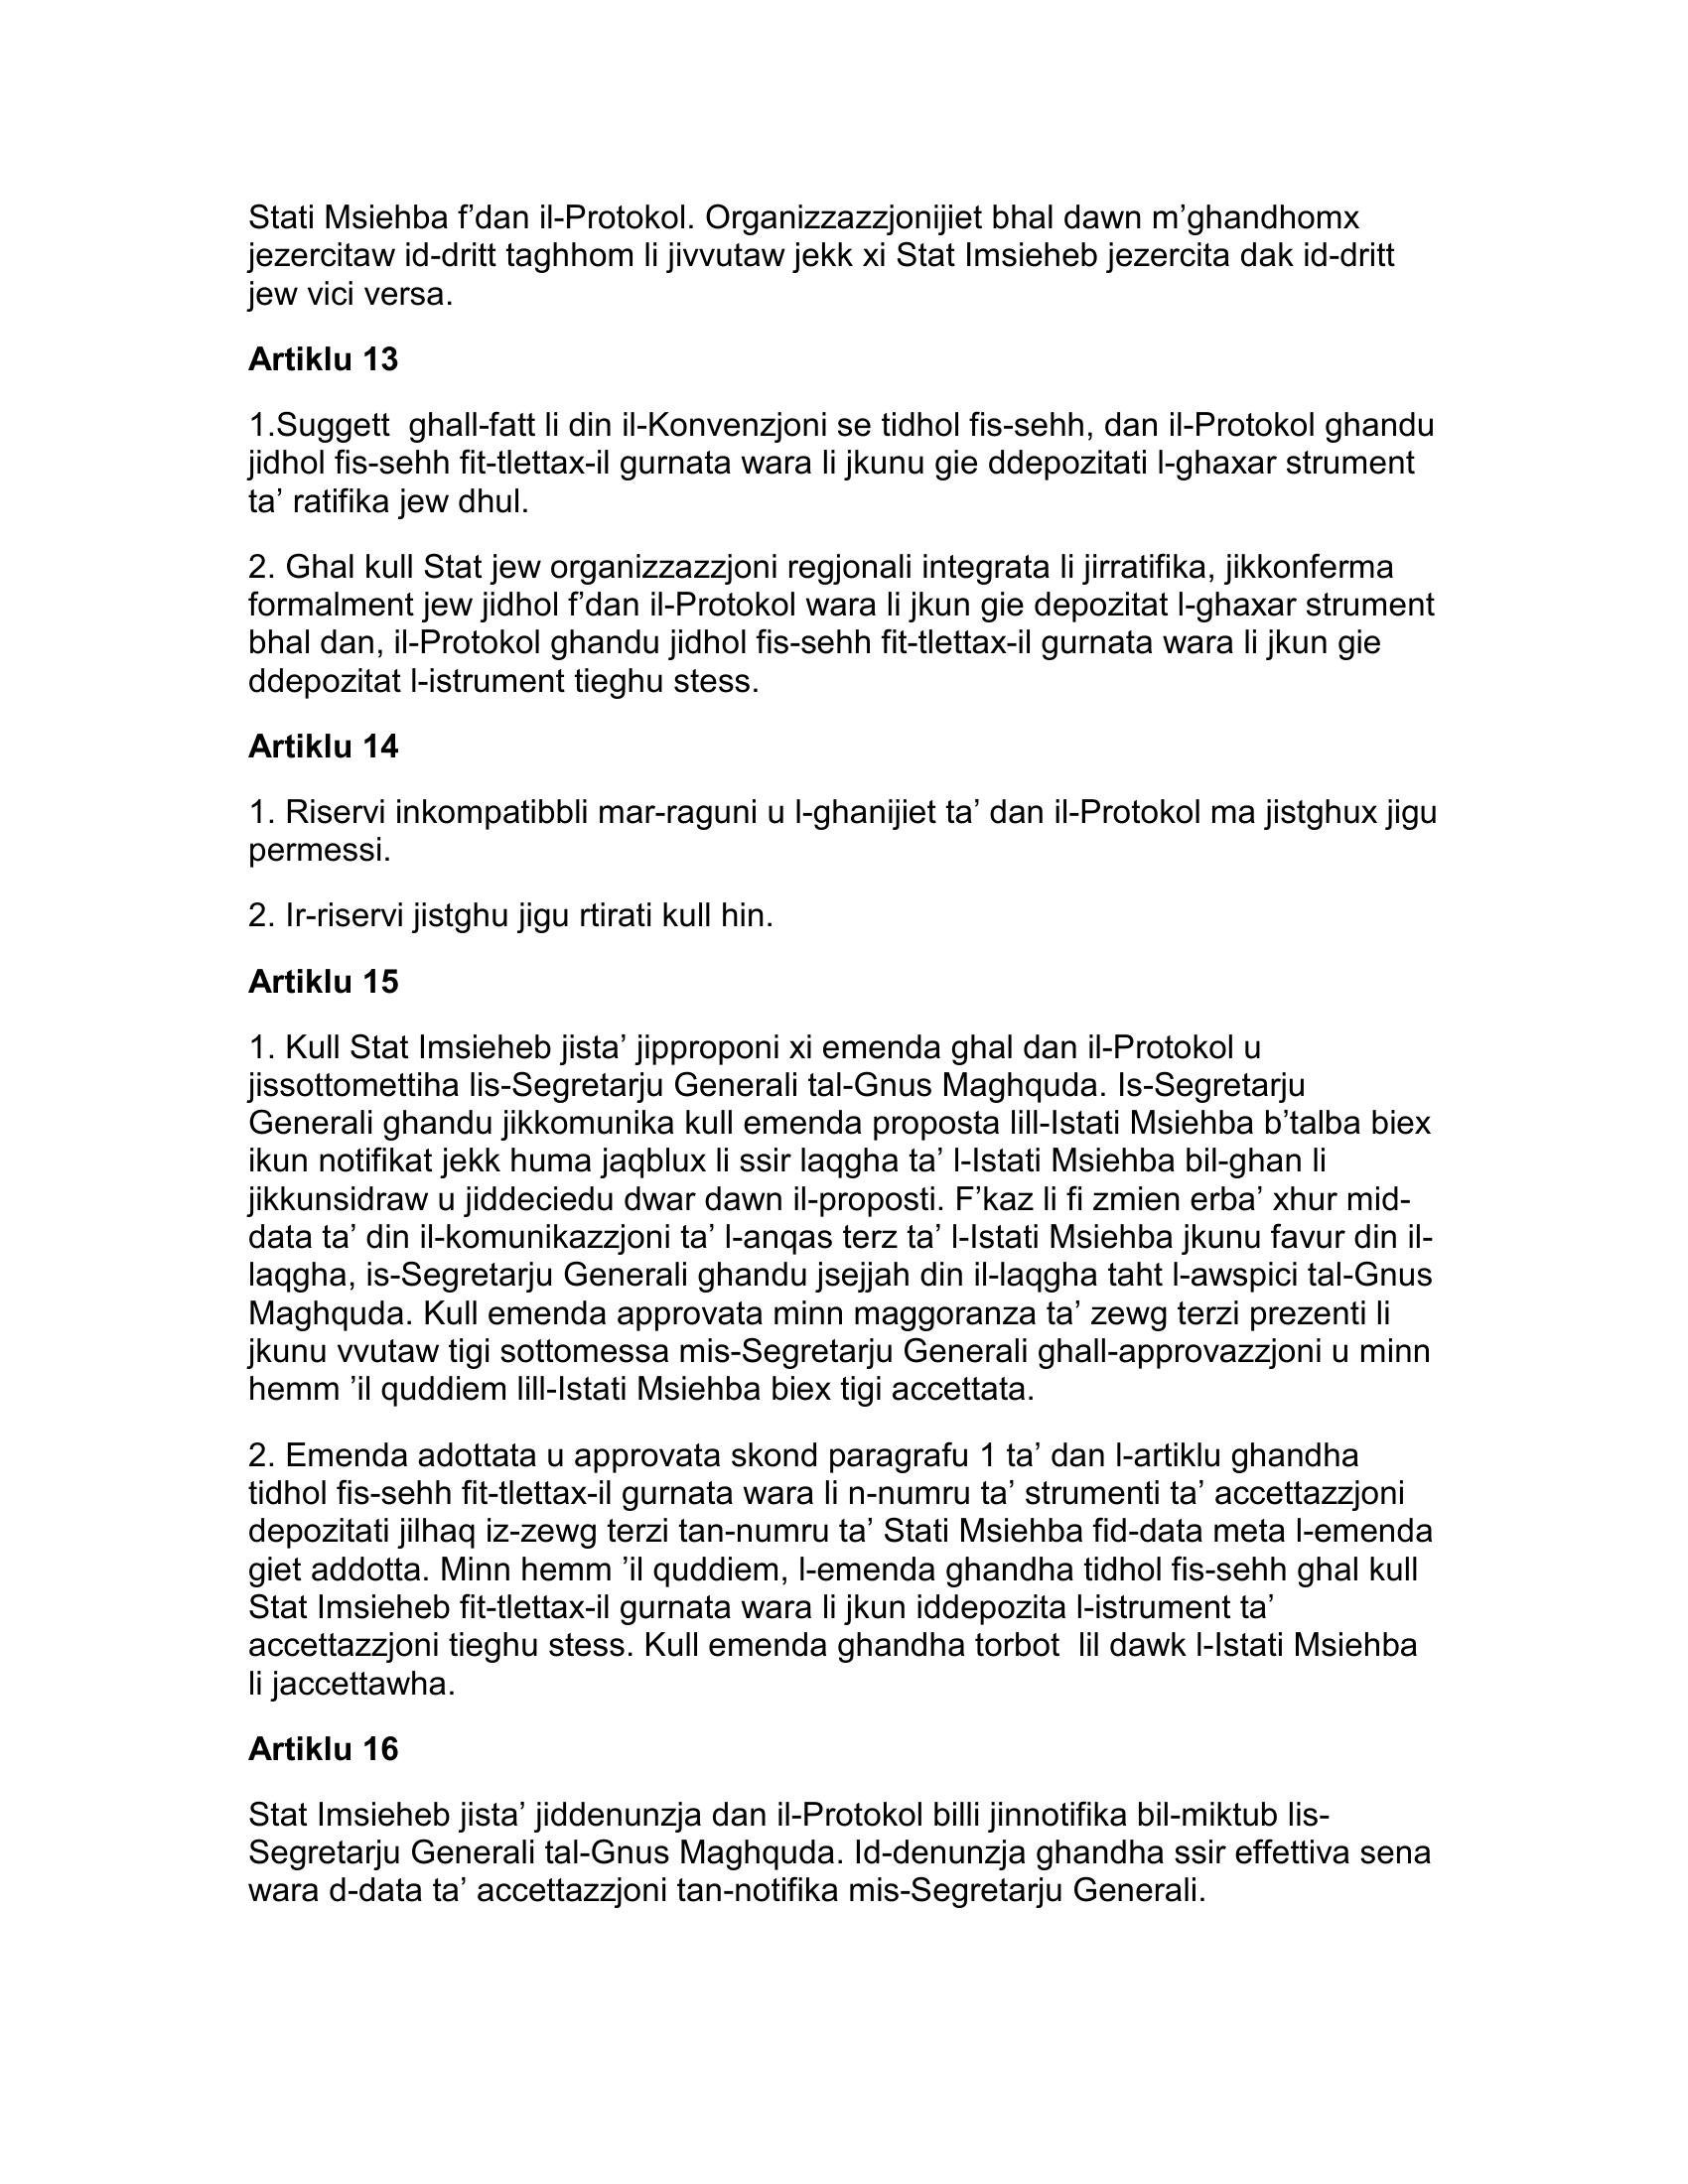text: (227, 168, 1491, 1936)
